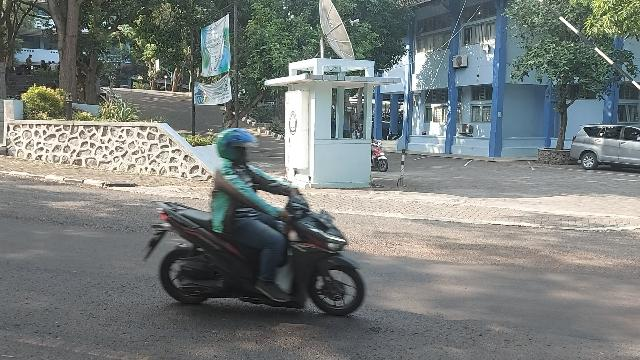helm: (218, 129, 260, 161)
motor: (144, 169, 366, 317)
